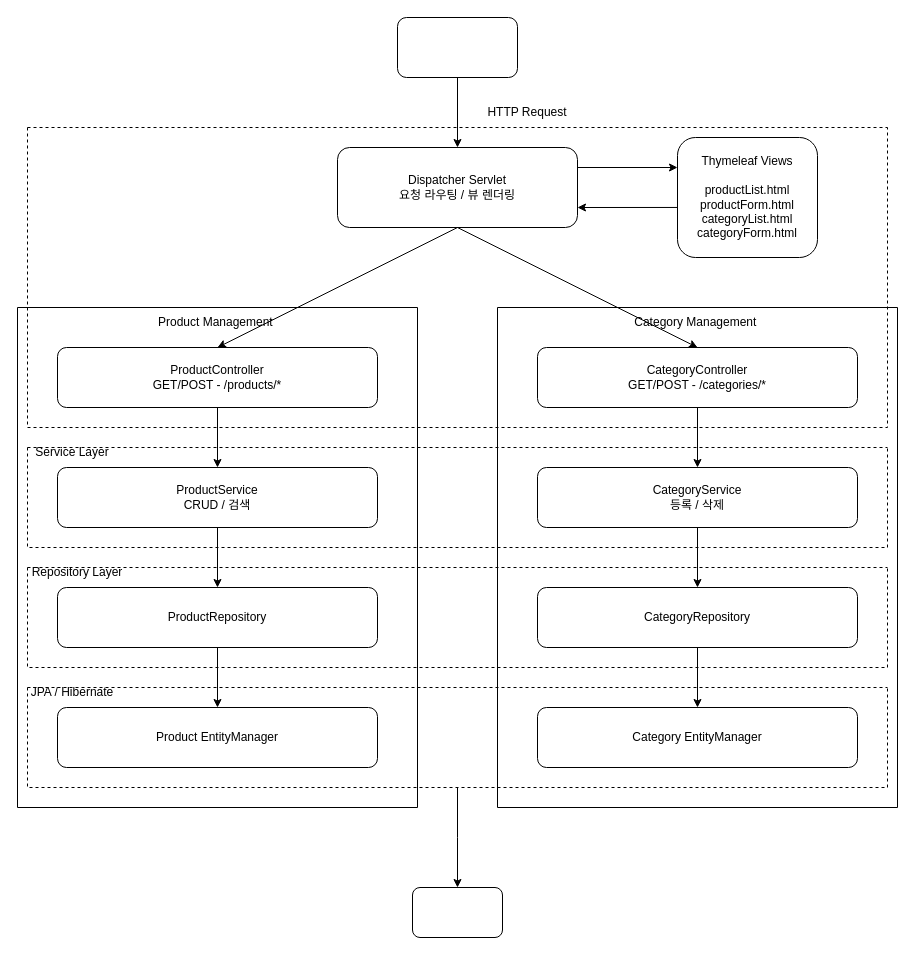
This 915x955 diagram has some shape labels left out. The shapes that lost their labels are listed below. From the top down, each one's centre as x and y in pixels, then its label:
(x=457, y=47): Browser
(x=457, y=277): Web Layer
(x=457, y=912): DB MySQL
